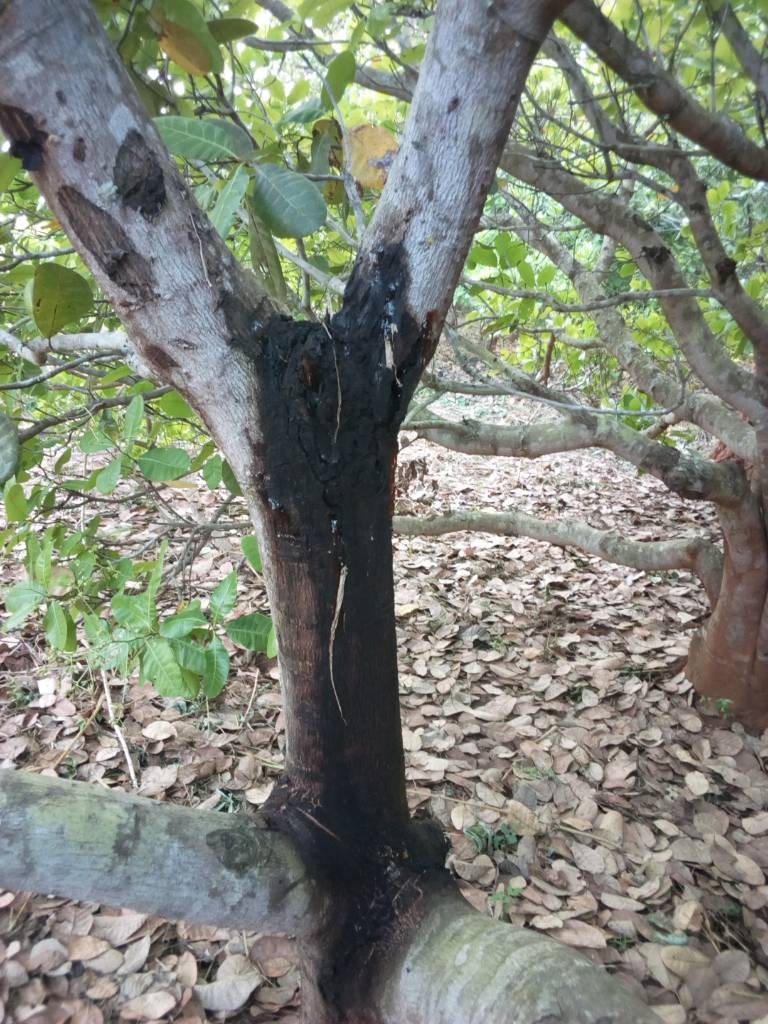Gommose: (255, 296, 421, 894)
